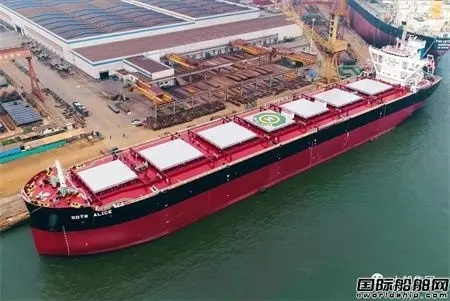Cargoship: (20, 35, 435, 251)
